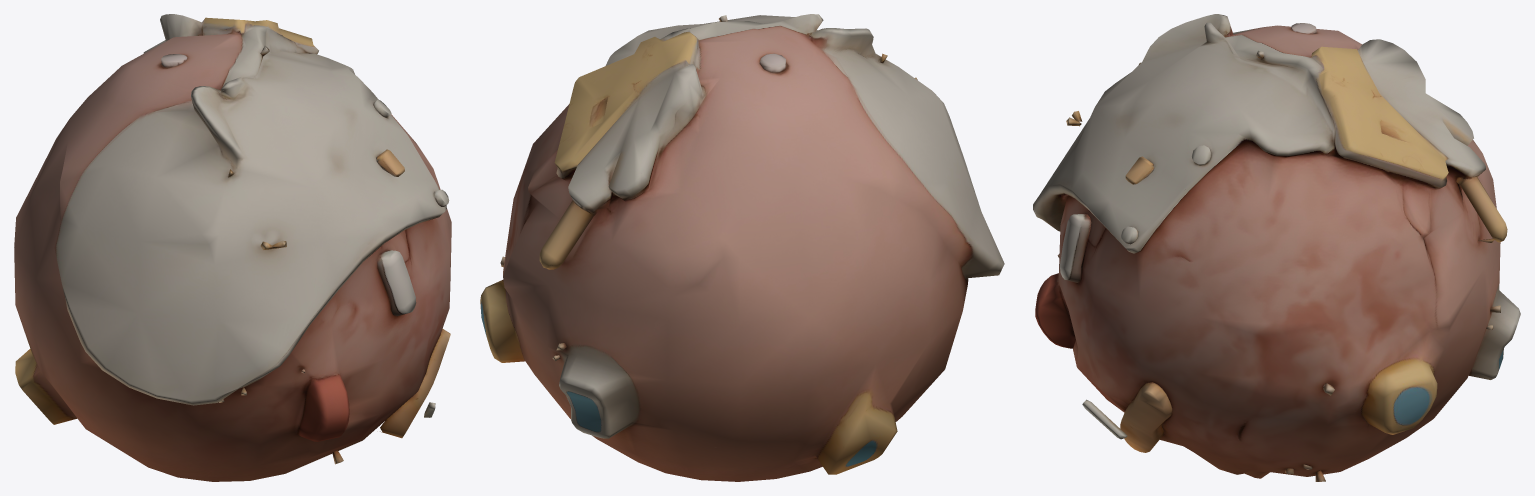
Rendered from ball_junk.glb.
3 renders of one model, left to right at view 1: azimuth 30°, elevation 25°; view 2: azimuth 150°, elevation 25°; view 3: azimuth 270°, elevation 25°, orthographic. The views are drawn at different scales.
Visible parts, largest first — view 1: tripo_node_83c2fa79-f980-48c1-812e-8b5de81491c7; view 2: tripo_node_83c2fa79-f980-48c1-812e-8b5de81491c7; view 3: tripo_node_83c2fa79-f980-48c1-812e-8b5de81491c7.
Part boxes in pixels (<box>): tripo_node_83c2fa79-f980-48c1-812e-8b5de81491c7: <box>14,14,451,481</box>; tripo_node_83c2fa79-f980-48c1-812e-8b5de81491c7: <box>480,14,1004,481</box>; tripo_node_83c2fa79-f980-48c1-812e-8b5de81491c7: <box>1033,14,1520,481</box>.
Bounding box in the file's own units: 0.9438 × 0.9302 × 0.9995.
Materials: 1 (1 with a texture image).
